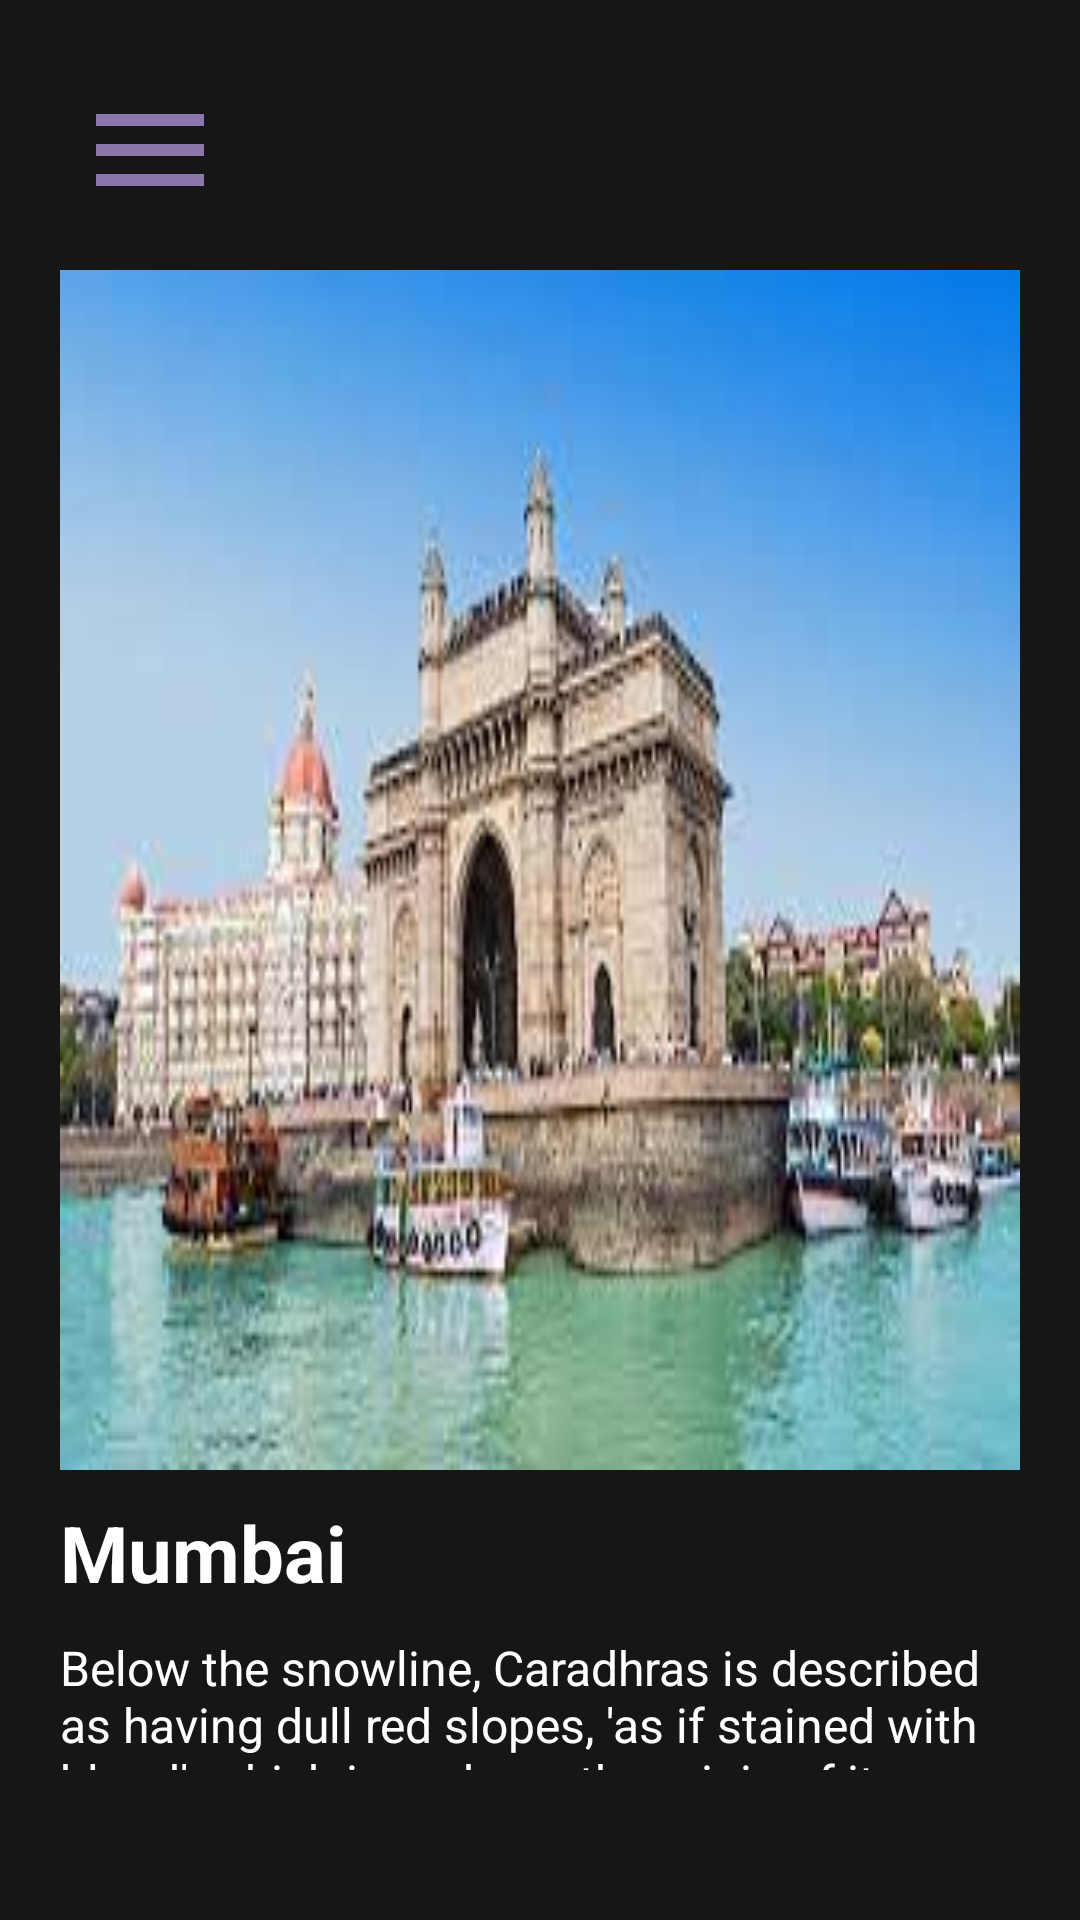

Where to tap for icons on this 1080 x 1920 app screen, as point (x, y):
menu: point (150, 150)
